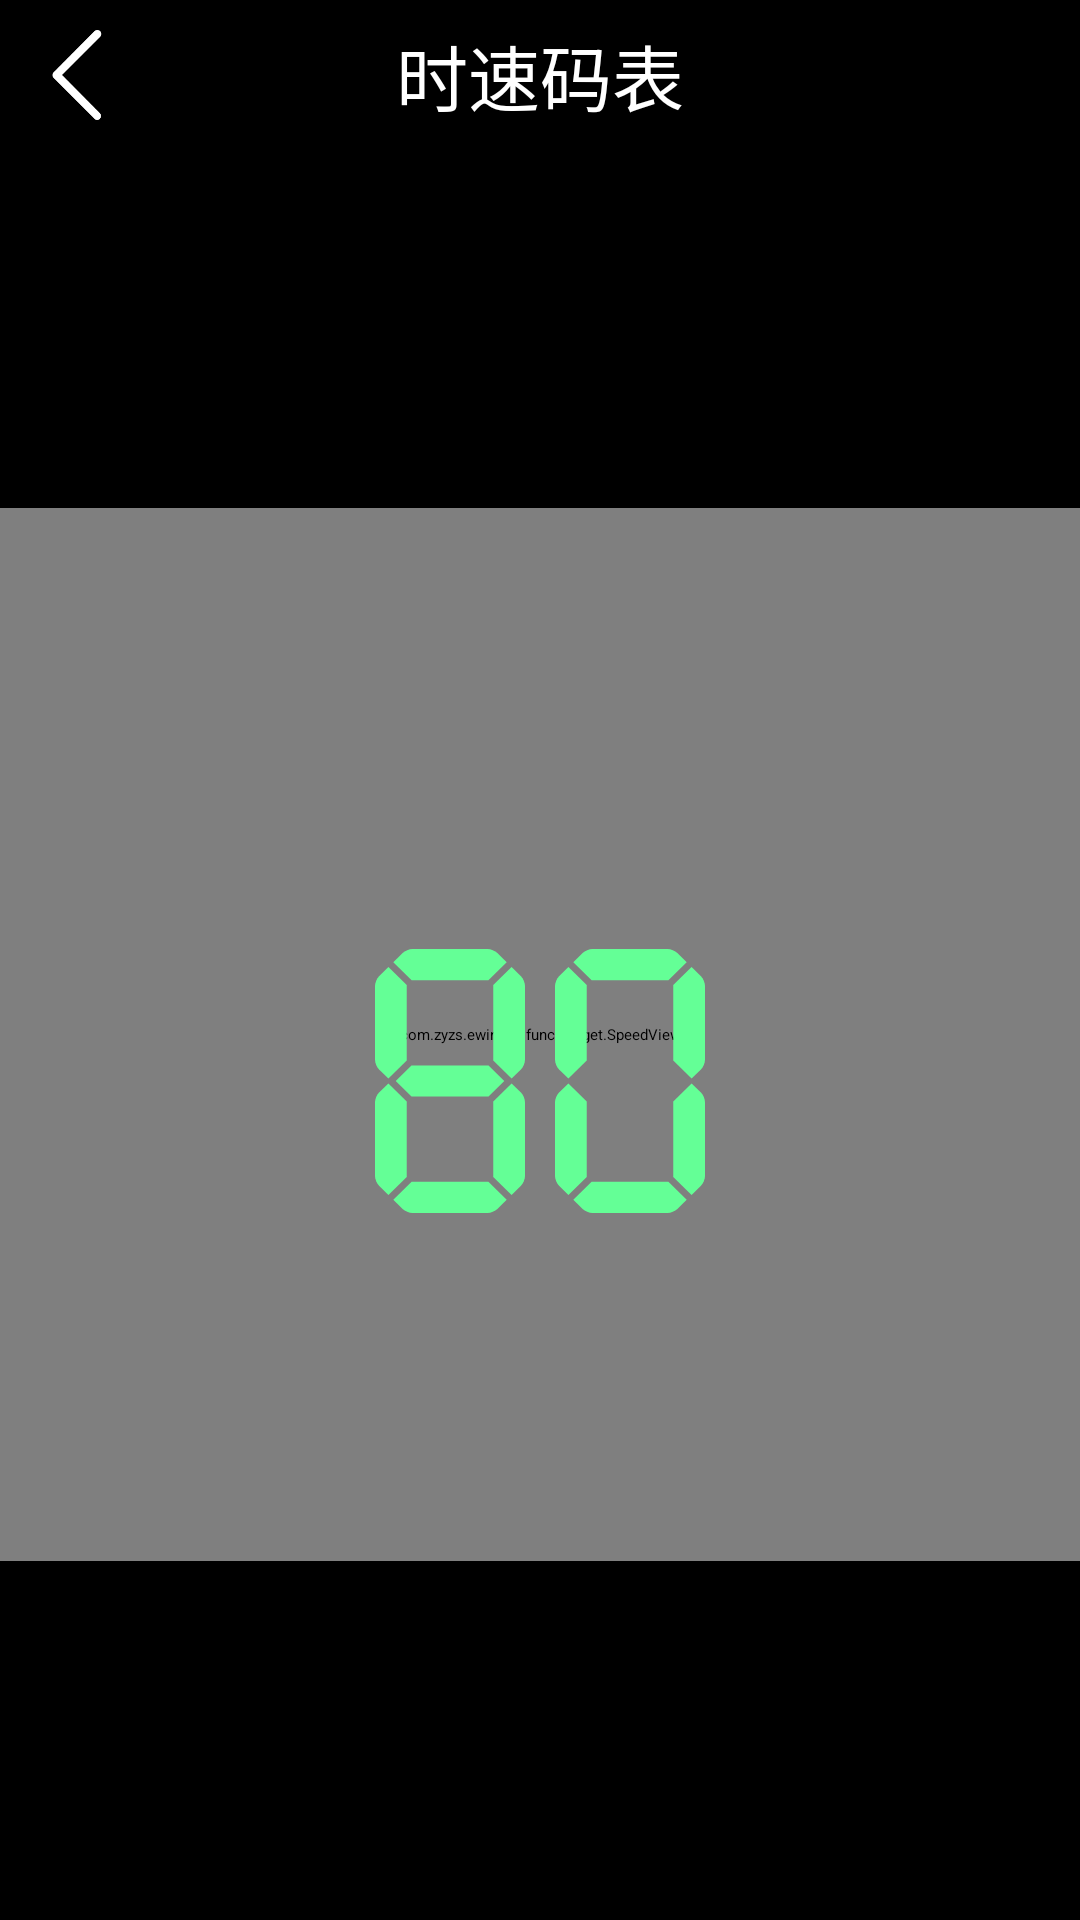

Icons on this 1080×1920 Android screen, each with the point to tap as (x,y):
back: (77,75)
